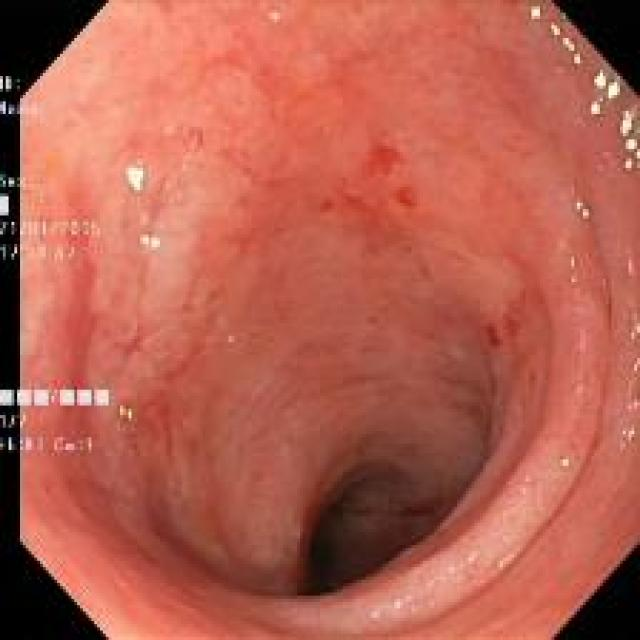ulcerative-colitis-grade-1: (20, 4, 609, 597)
